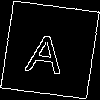A: (25, 25, 69, 75)
